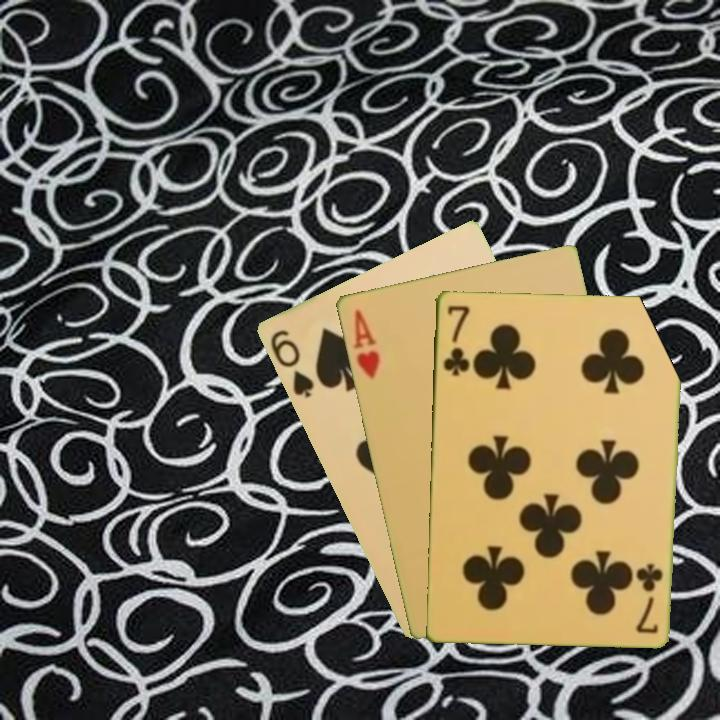6s: (266, 326, 317, 401)
7c: (439, 302, 472, 379), (635, 559, 665, 635)
Ah: (349, 305, 382, 382)
